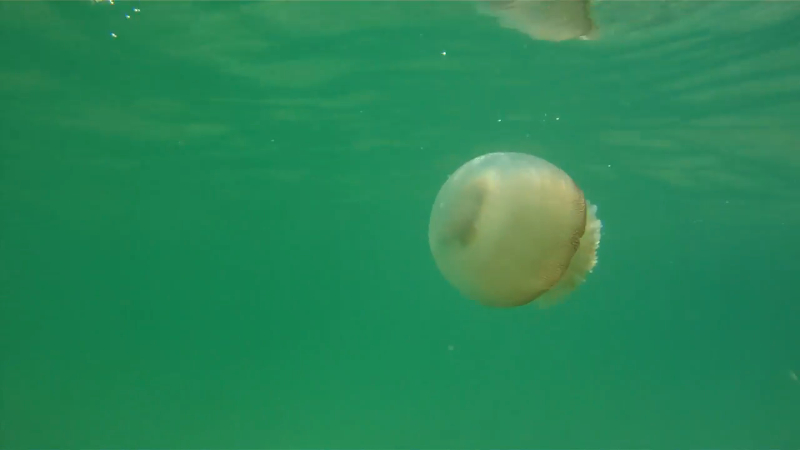yellow jellyfish: (423, 151, 601, 313)
